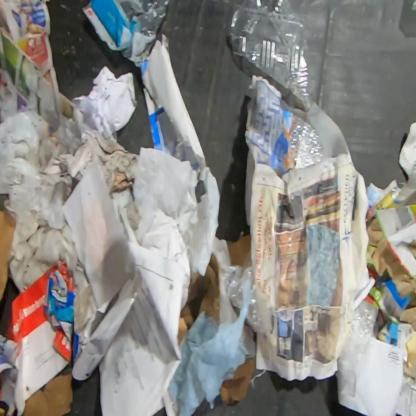cardboard: (21, 372, 74, 415)
rigid_plastic: (222, 0, 312, 112), (284, 111, 325, 173)
soft_plastic: (81, 0, 171, 70), (218, 246, 274, 336), (334, 289, 379, 401)
